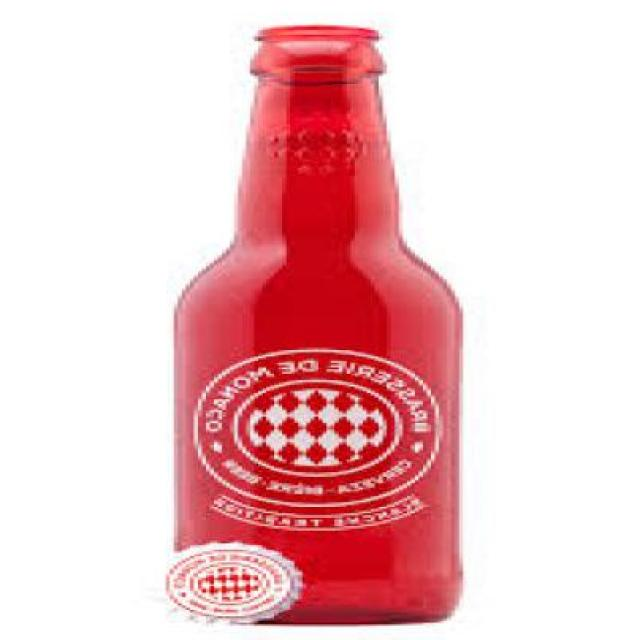kaca: (175, 19, 468, 623)
